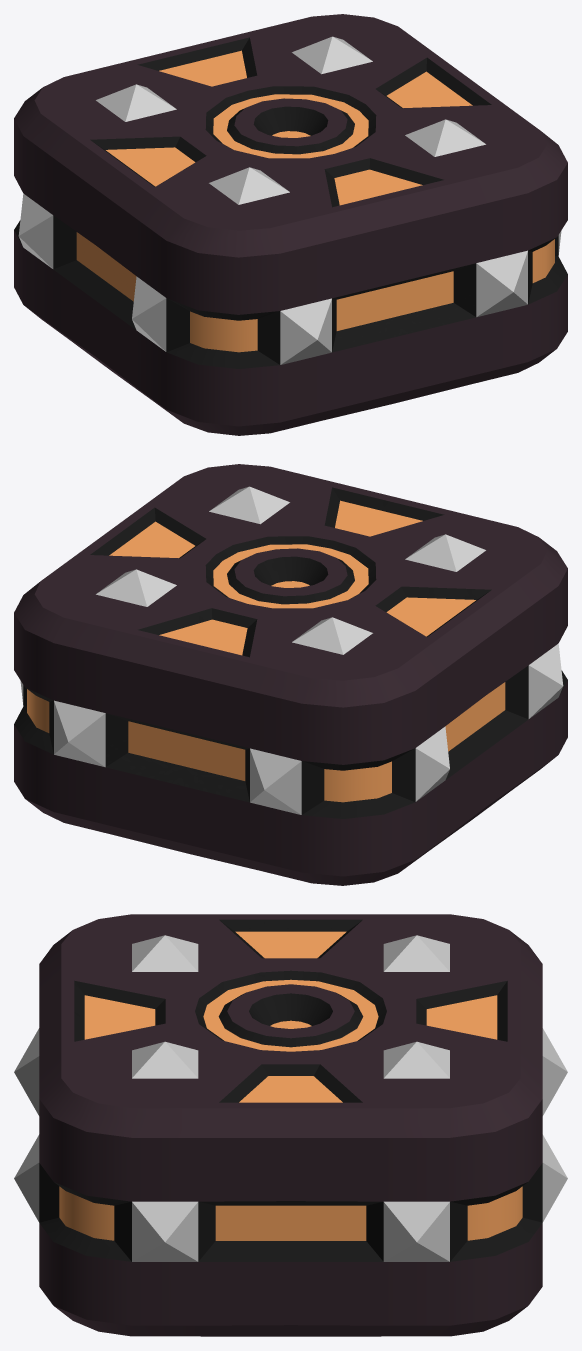
Rendered from YK_Large_Anchor_Rotating.obj.
3 views of the same model, one above another, from view 1: azimuth 30°, elevation 25°; view 2: azimuth 150°, elevation 25°; view 3: azimuth 270°, elevation 25° (orthographic). The views are drawn at different scales.
Parts seen in each view (by area): view 1: BF_Block_111.031_BF_Block_111.002, BF_Block_111.006; view 2: BF_Block_111.031_BF_Block_111.002, BF_Block_111.006; view 3: BF_Block_111.031_BF_Block_111.002, BF_Block_111.006.
Part boxes in pixels (<box>): BF_Block_111.031_BF_Block_111.002: <box>14,14,567,435</box>; BF_Block_111.006: <box>18,36,561,364</box>; BF_Block_111.031_BF_Block_111.002: <box>14,464,567,885</box>; BF_Block_111.006: <box>20,486,563,814</box>; BF_Block_111.031_BF_Block_111.002: <box>39,914,542,1336</box>; BF_Block_111.006: <box>14,935,567,1261</box>.
Bounding box in the file's own units: 2.2 × 1.1 × 2.2.
